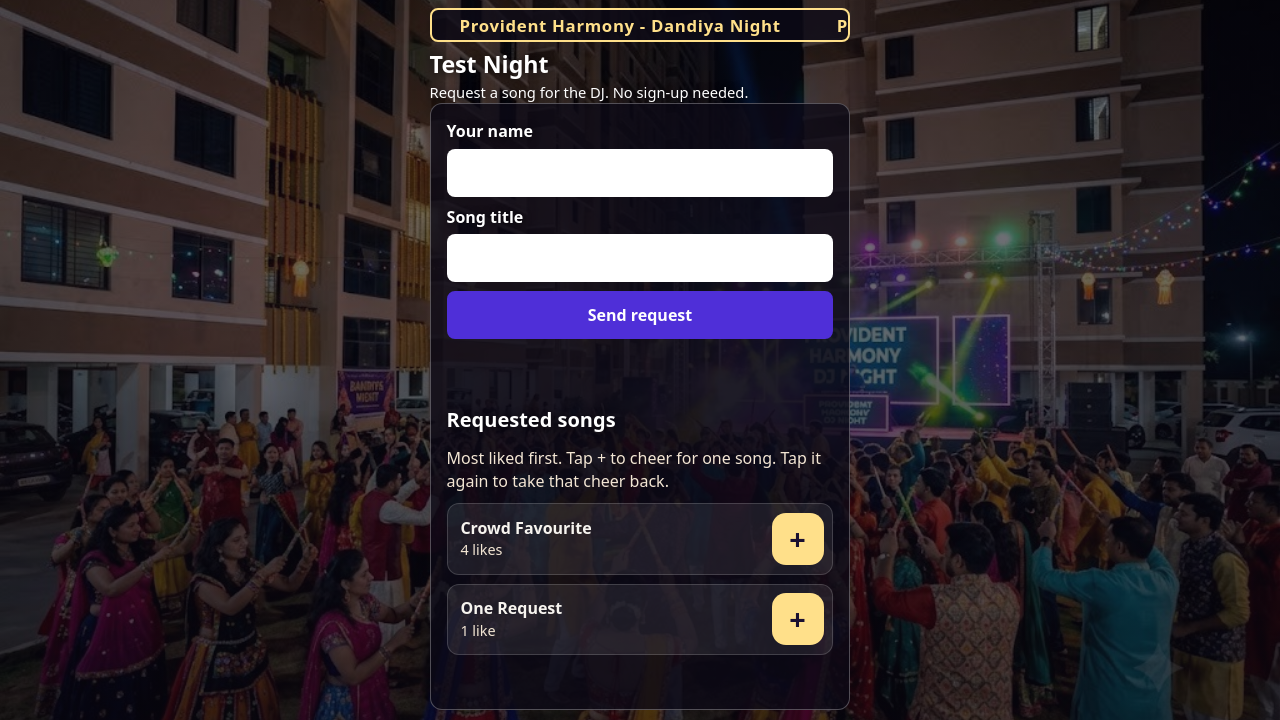
Test: AudiencePage › lists the most liked songs first and a + tap cheers without a name
The image size is (1280, 720).
Expected: the list item "Crowd Favourite 4 likes +" is shown, x1=447 y1=503 x2=833 y2=575
Expected: the list item "One Request 1 like +" is shown, x1=447 y1=584 x2=833 y2=655
Click the button named "Like Crowd Favourite": click(798, 539) x1=772 y1=513 x2=824 y2=565
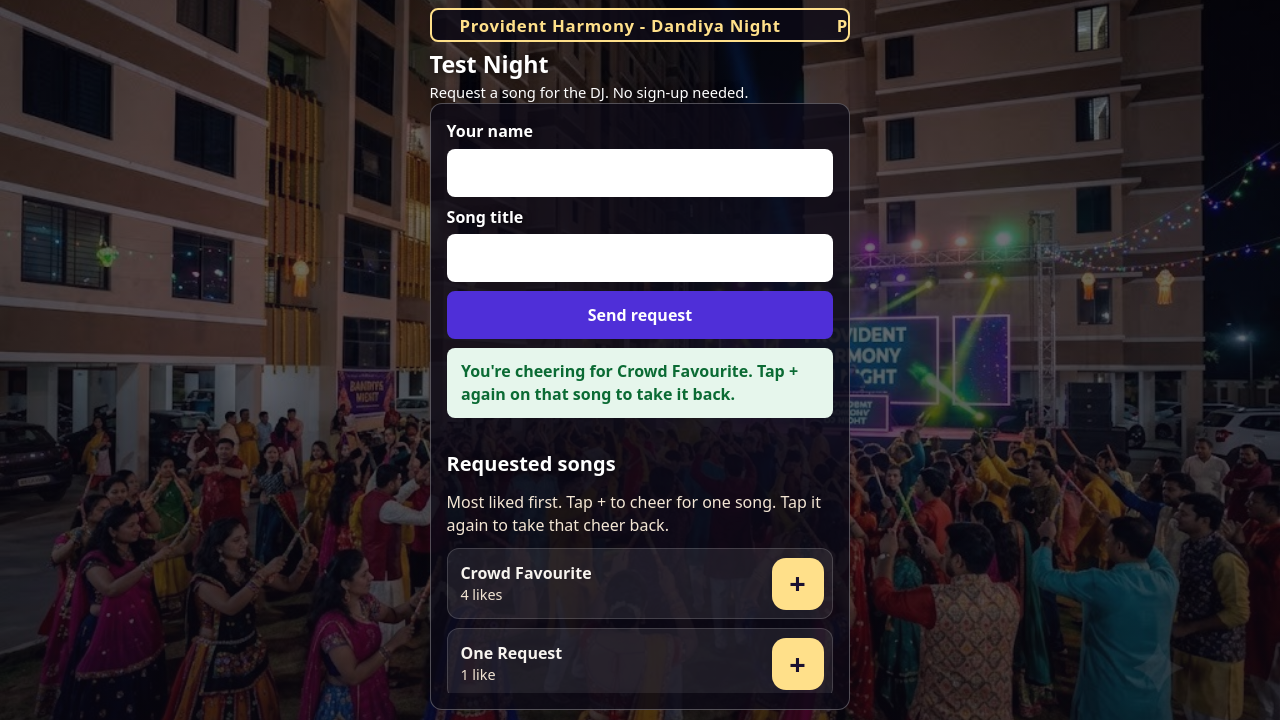
Result: the text "cheering for Crowd Favourite" is shown at x1=461 y1=360 x2=798 y2=405
